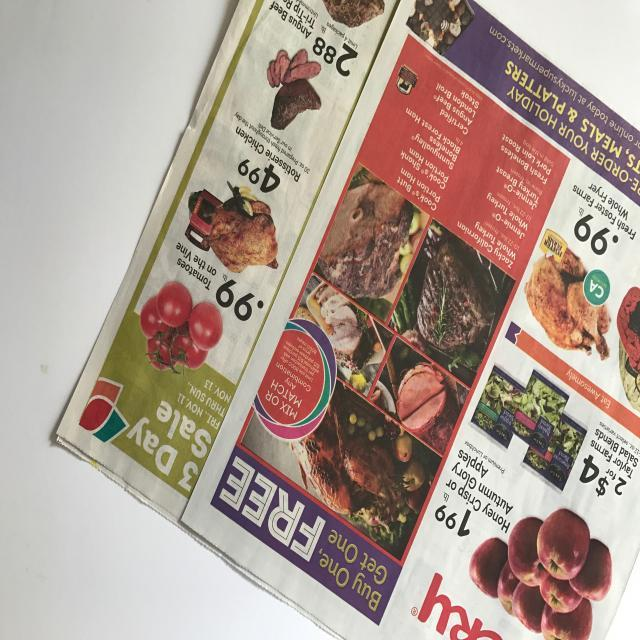paper: (50, 1, 640, 640)
